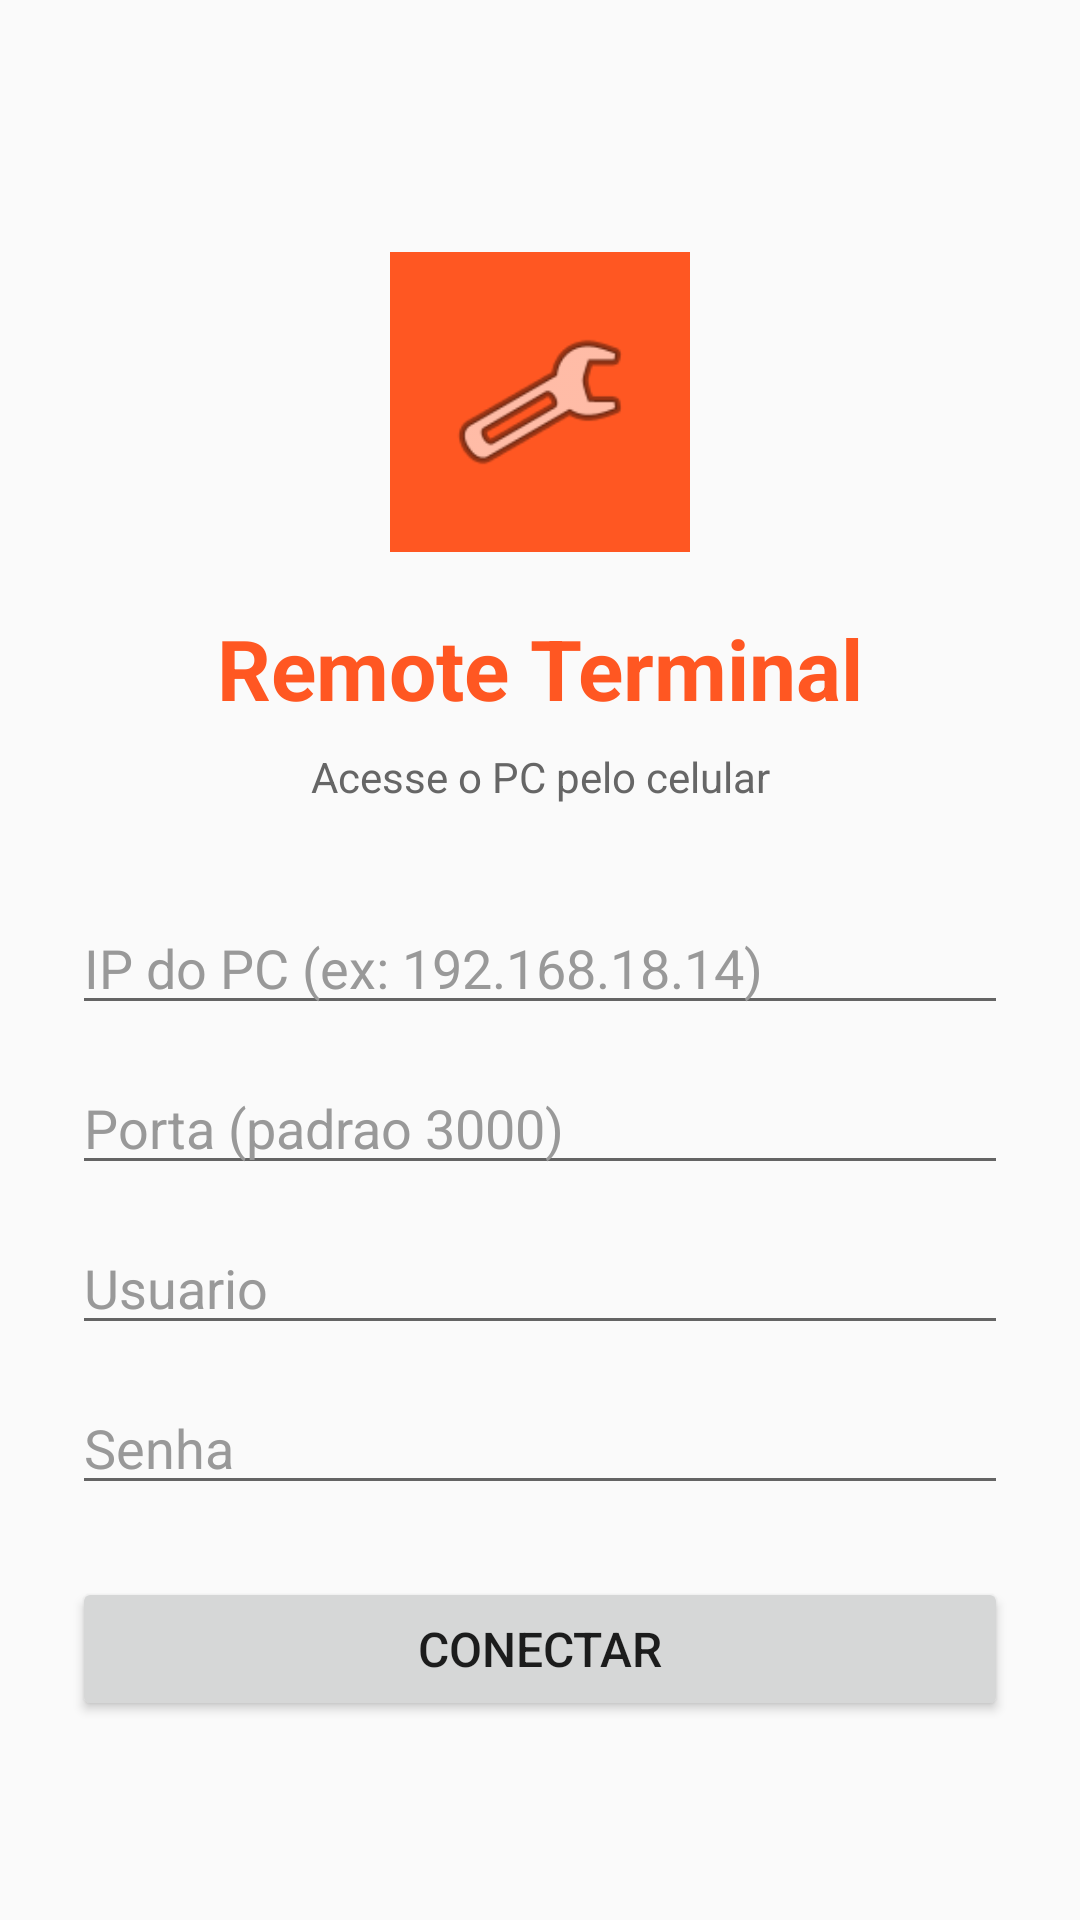

Icons on this 1080×1920 Android screen, each with the point to tap as [x,y]:
manage: [540,402]
